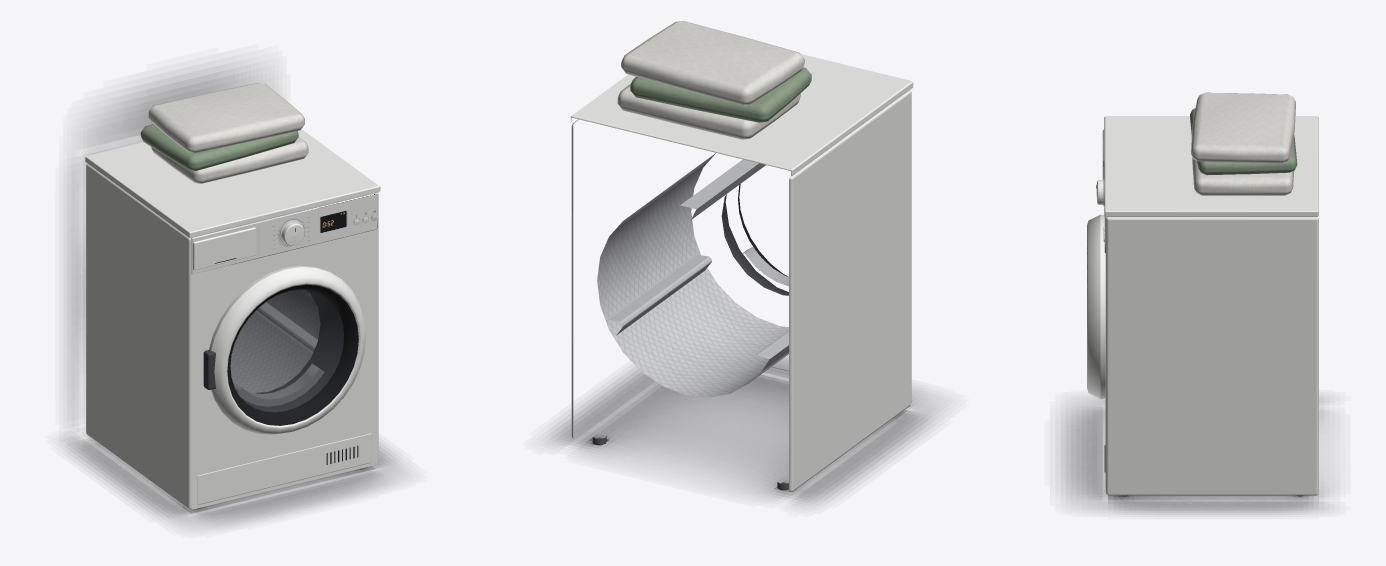
File: dryer.glb
3 views of the same model, side by side, from view 1: azimuth 30°, elevation 25°; view 2: azimuth 150°, elevation 25°; view 3: azimuth 270°, elevation 25° (orthographic). The views are drawn at different scales.
Parts seen in each view (by area): view 1: dryer_LOD0, dryer_Shadow; view 2: dryer_LOD0, dryer_Shadow; view 3: dryer_LOD0, dryer_Shadow.
Part boxes in pixels (x1,y1,x2,y2): dryer_LOD0: (85,83,380,509); dryer_Shadow: (63,65,401,526); dryer_LOD0: (570,21,913,492); dryer_Shadow: (548,355,937,504); dryer_LOD0: (1087,92,1318,495); dryer_Shadow: (1061,398,1324,514).
Size of what is drawn, in the model's own units: 0.88 by 1.2 by 0.895.
6 materials, 5 textured.
